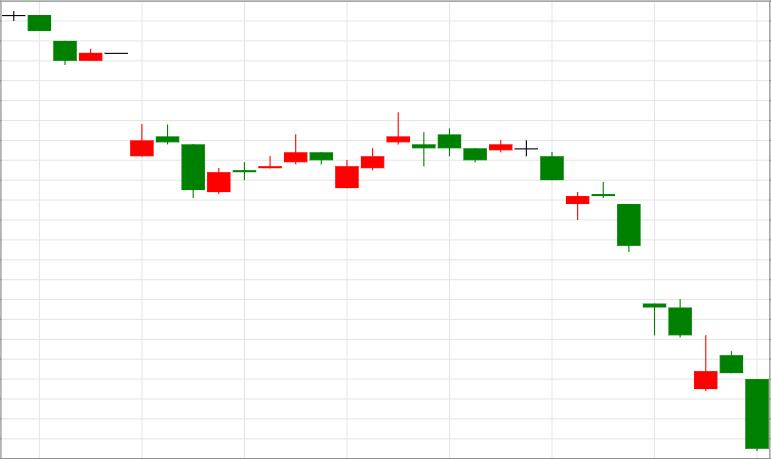inverse_hammer_rise: (591, 181, 718, 392)
